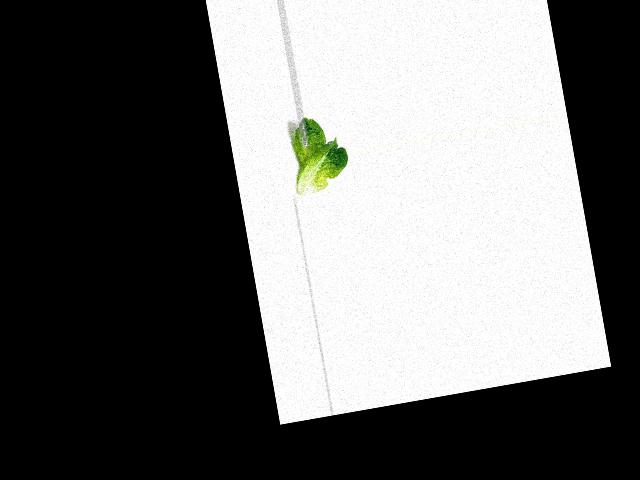lettuce: (287, 109, 353, 198)
